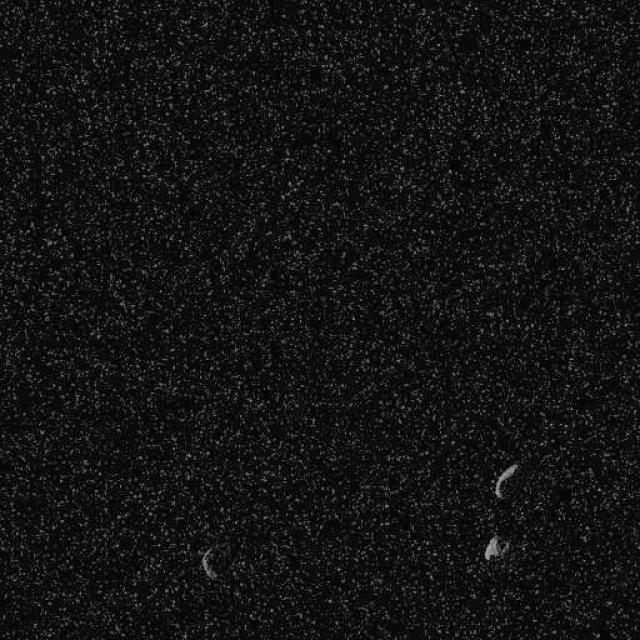D2: (198, 540, 234, 581), (492, 461, 518, 500), (482, 534, 508, 560)
